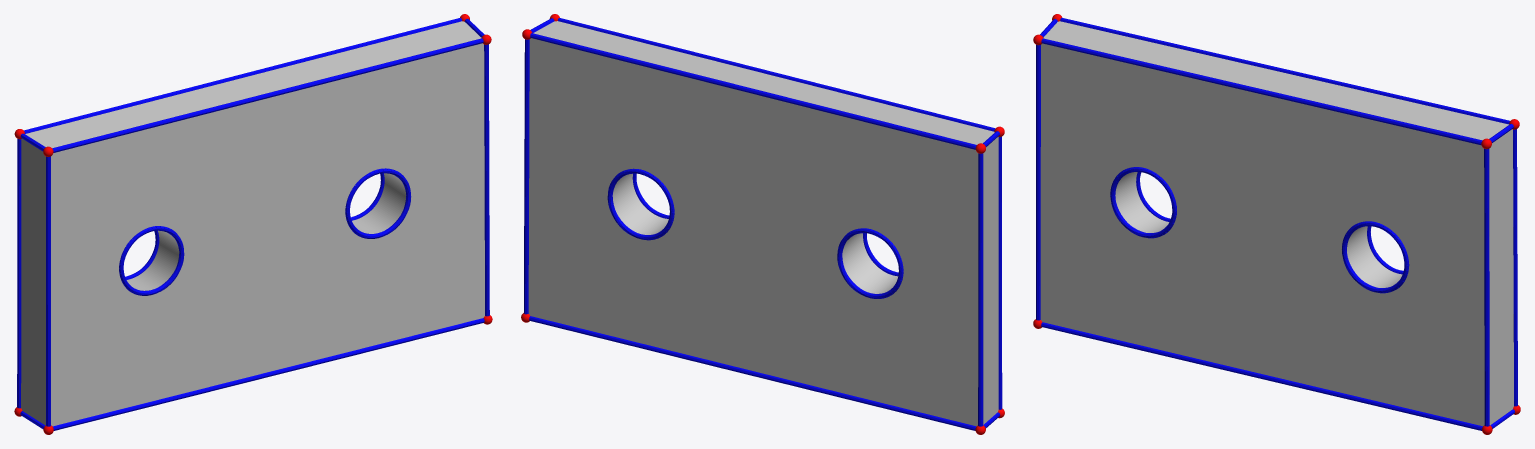
File: pipeline_results_structured.obj
3 views of the same model, side by side, from view 1: azimuth 30°, elevation 25°; view 2: azimuth 150°, elevation 25°; view 3: azimuth 330°, elevation 25° (orthographic). The views are drawn at different scales.
Parts seen in each view (by area): view 1: face_00003, face_00005, face_00004, line_00010, line_00007, line_00006, face_00006, face_00007, line_00002, line_00009, line_00005; view 2: face_00001, face_00005, face_00004, line_00006, line_00004, line_00010, face_00007, face_00006, line_00005, line_00000, line_00009; view 3: face_00003, face_00005, face_00000, line_00010, line_00007, line_00006, line_00002, face_00006, face_00007, line_00009, line_00000.
Boxes of the visible parts, bbox=[...] form: face_00003: bbox=[51, 43, 484, 426]; face_00005: bbox=[25, 21, 481, 148]; face_00004: bbox=[21, 138, 45, 425]; line_00010: bbox=[52, 38, 483, 152]; line_00007: bbox=[53, 318, 484, 430]; line_00006: bbox=[24, 18, 461, 133]; face_00006: bbox=[352, 173, 406, 233]; face_00007: bbox=[126, 230, 179, 290]; line_00002: bbox=[484, 44, 489, 316]; line_00009: bbox=[46, 156, 50, 426]; line_00005: bbox=[17, 138, 21, 408]; face_00001: bbox=[528, 38, 978, 426]; face_00005: bbox=[533, 21, 994, 144]; face_00004: bbox=[983, 137, 998, 424]; line_00006: bbox=[530, 33, 976, 149]; line_00004: bbox=[529, 316, 976, 430]; line_00010: bbox=[558, 18, 995, 131]; face_00007: bbox=[842, 233, 898, 293]; face_00006: bbox=[612, 173, 668, 234]; line_00005: bbox=[978, 153, 983, 426]; line_00000: bbox=[523, 39, 529, 314]; line_00009: bbox=[998, 136, 1002, 409]; face_00003: bbox=[1040, 43, 1484, 426]; face_00005: bbox=[1043, 21, 1508, 140]; face_00000: bbox=[1489, 129, 1513, 425]; line_00010: bbox=[1041, 38, 1482, 145]; line_00007: bbox=[1041, 322, 1482, 430]; line_00006: bbox=[1060, 17, 1509, 124]; line_00002: bbox=[1484, 148, 1489, 426]; face_00006: bbox=[1347, 226, 1402, 287]; face_00007: bbox=[1115, 172, 1169, 232]; line_00009: bbox=[1036, 44, 1040, 320]; line_00000: bbox=[1513, 129, 1517, 406].
Bounding box in the file's own units: 1.01 × 0.6248 × 0.1177.
